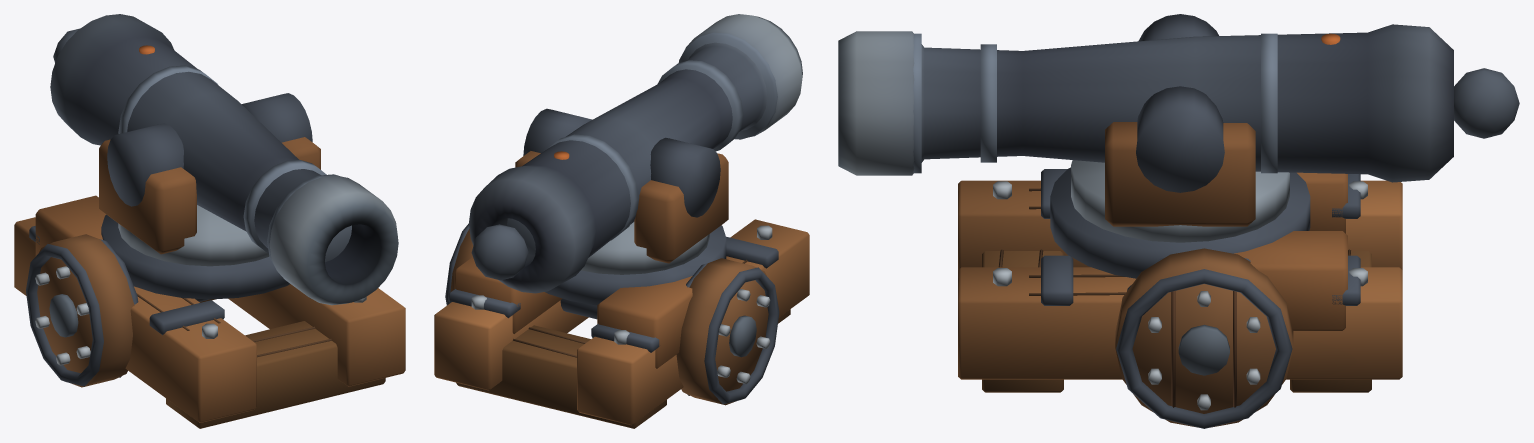
File: arma-canon.glb
3 views of the same model, side by side, from view 1: azimuth 30°, elevation 25°; view 2: azimuth 150°, elevation 25°; view 3: azimuth 270°, elevation 25° (orthographic). The views are drawn at different scales.
Parts seen in each view (by area): view 1: Base, Barrel, Head; view 2: Base, Barrel, Head; view 3: Base, Barrel, Head.
Part boxes in pixels (x1,y1,x2,y2): Base: (14, 195, 405, 428); Barrel: (50, 14, 398, 305); Head: (99, 93, 320, 266); Base: (434, 219, 809, 428); Barrel: (469, 14, 802, 293); Head: (515, 108, 728, 274); Base: (958, 167, 1402, 428); Barrel: (838, 24, 1519, 182); Head: (1071, 14, 1289, 242).
Bounding box in the file's own units: 0.5723 × 0.5181 × 1.
